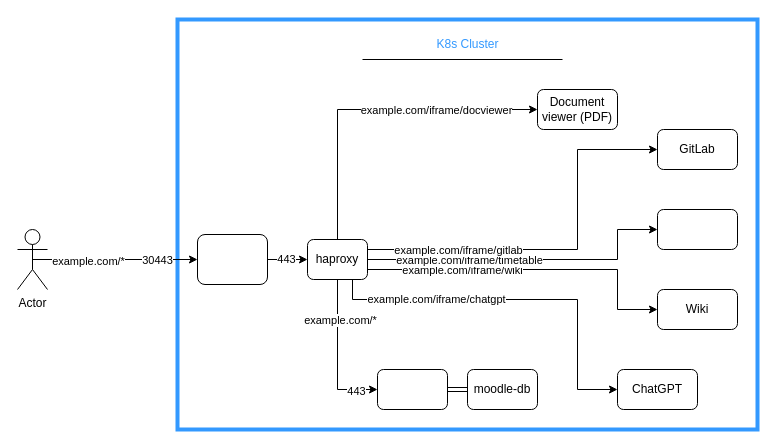
Image size: 777x448. Some labels were removed from this diagram. Each missing label, with the centre of its shape:
"Blockplan/ Timetable" belongs at point 697,229.
"haproxy-service nodeport" belongs at point 232,259.
"moodle" belongs at point 412,389.
